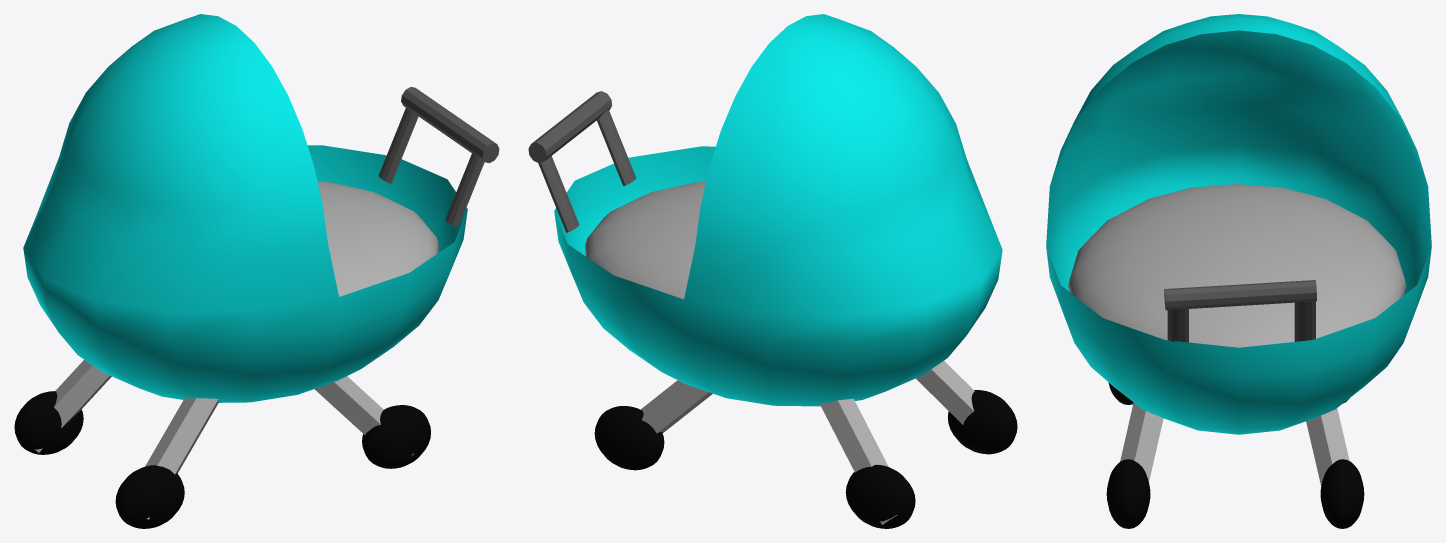
File: BabyStroller.fbx
3 renders of one model, left to right at view 1: azimuth 30°, elevation 25°; view 2: azimuth 150°, elevation 25°; view 3: azimuth 270°, elevation 25°, orthographic. The views are drawn at different scales.
Parts seen in each view (by area): view 1: pCylinder13, pSphere2; view 2: pCylinder13, pSphere2; view 3: pCylinder13, pSphere2.
Boxes of the visible parts, left/top/right/bottom form: pCylinder13: left=14, top=14, right=499, bottom=528; pSphere2: left=317, top=181, right=438, bottom=296; pCylinder13: left=528, top=14, right=1017, bottom=528; pSphere2: left=585, top=181, right=705, bottom=299; pCylinder13: left=1046, top=14, right=1431, bottom=528; pSphere2: left=1068, top=184, right=1406, bottom=347.
Size of the model in its own units: 6.35 by 6.18 by 4.9.
